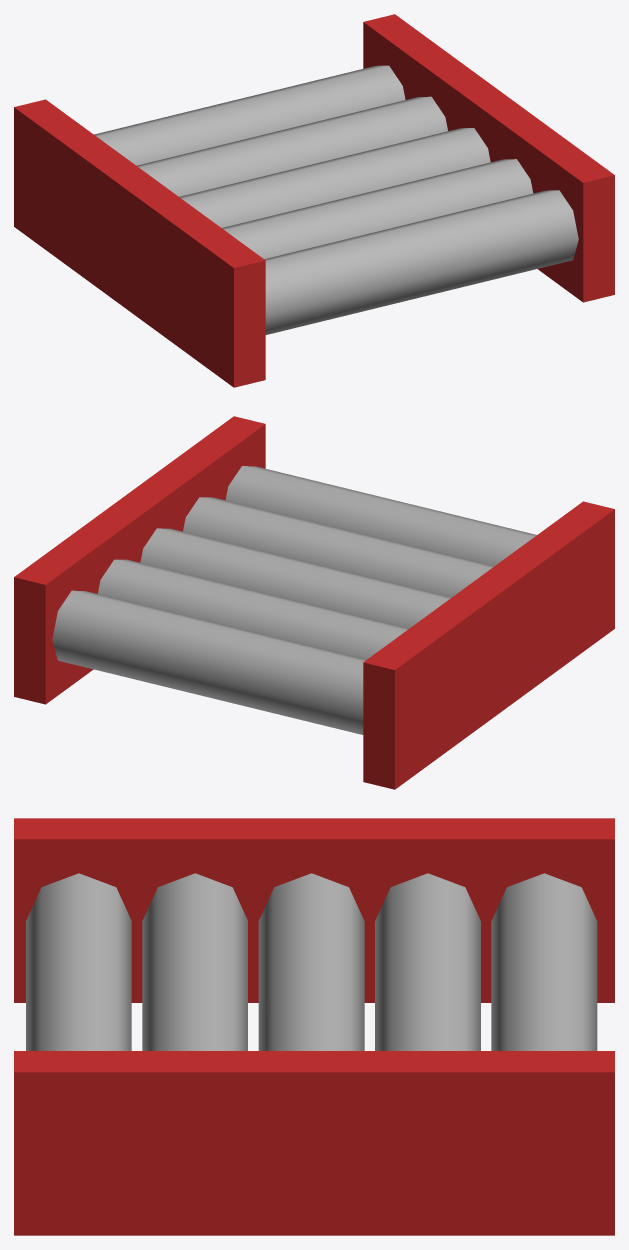
The model's file is Straight Conveyor Belt.fbx.
3 views of the same model, one above another, from view 1: azimuth 30°, elevation 25°; view 2: azimuth 150°, elevation 25°; view 3: azimuth 270°, elevation 25° (orthographic). The views are drawn at different scales.
Visible parts, largest first — view 1: Straight Conveyor Belt; view 2: Straight Conveyor Belt; view 3: Straight Conveyor Belt.
Boxes of the visible parts, left/top/right/bottom form: Straight Conveyor Belt: left=14, top=14, right=614, bottom=387; Straight Conveyor Belt: left=14, top=416, right=614, bottom=789; Straight Conveyor Belt: left=14, top=818, right=614, bottom=1235.
Size of the model in its own units: 1 by 1 by 0.3.
1 material, 1 textured.
